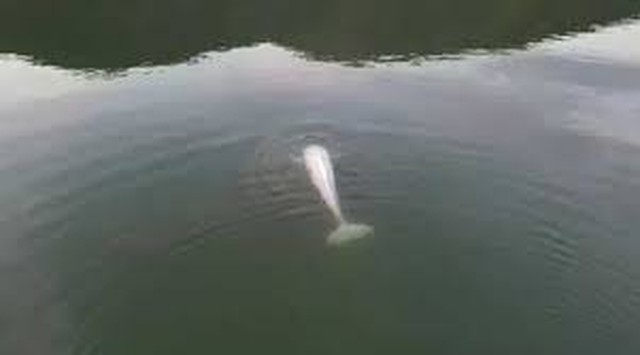whale: (283, 122, 385, 262)
